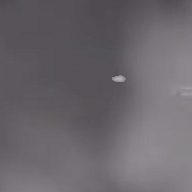Target: (112, 75, 126, 82)
